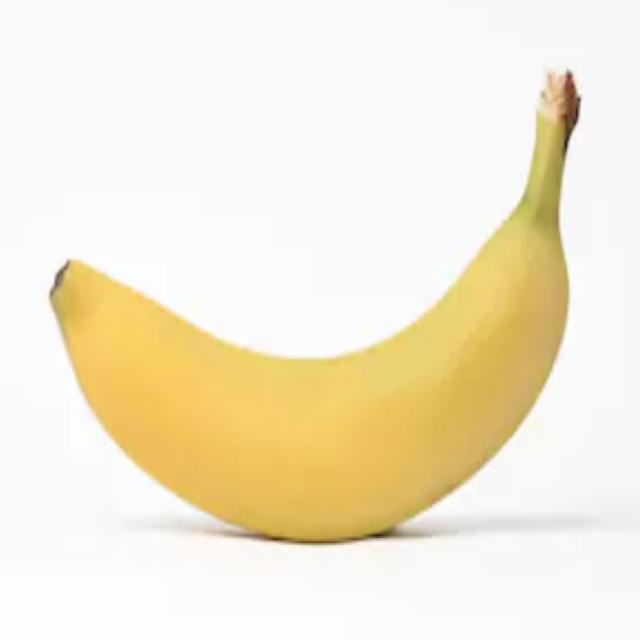fresh-banana: (48, 65, 582, 543)
